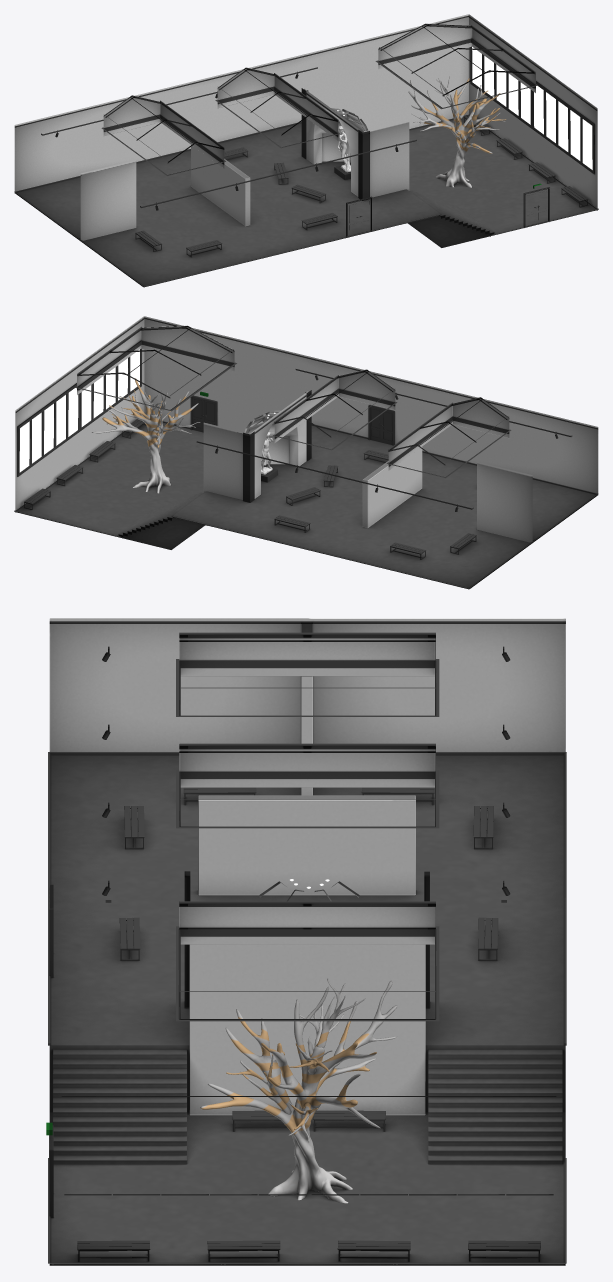
3 views of the same model, one above another, from view 1: azimuth 30°, elevation 25°; view 2: azimuth 150°, elevation 25°; view 3: azimuth 270°, elevation 25° (orthographic). The views are drawn at different scales.
Parts seen in each view (by area): view 1: walls, floor, ceiling, Window, skyLight, corner, tree2, chairs, Stairs, Doors; view 2: walls, floor, ceiling, Window, skyLight, corner, tree2, chairs, Doors, Stairs; view 3: floor, walls, Stairs, ceiling, skyLight, tree2, chairs, corner, Window, Doors.
Boxes of the visible parts, <box> form: walls: <box>14,14,597,241</box>; floor: <box>15,117,598,287</box>; ceiling: <box>103,23,535,168</box>; Window: <box>470,46,594,174</box>; skyLight: <box>101,24,537,175</box>; corner: <box>14,15,598,286</box>; tree2: <box>408,76,506,187</box>; chairs: <box>135,115,588,257</box>; Stairs: <box>409,190,494,235</box>; Doors: <box>346,187,549,237</box>; walls: <box>15,316,598,543</box>; floor: <box>14,422,597,589</box>; ceiling: <box>77,325,509,470</box>; Window: <box>17,348,141,476</box>; skyLight: <box>75,326,511,478</box>; corner: <box>14,317,598,588</box>; tree2: <box>92,378,200,493</box>; chairs: <box>24,419,476,559</box>; Doors: <box>190,395,394,445</box>; Stairs: <box>118,492,203,536</box>; floor: <box>49,755,565,1265</box>; walls: <box>49,618,565,1115</box>; Stairs: <box>53,1049,562,1164</box>; ceiling: <box>179,638,435,944</box>; skyLight: <box>176,632,439,1021</box>; tree2: <box>200,978,397,1203</box>; chairs: <box>77,787,540,1261</box>; corner: <box>48,621,566,1263</box>; Window: <box>61,1096,556,1195</box>; Doors: <box>49,884,53,1218</box>.
Bounding box in the file's own units: 30.6 × 9.15 × 15.12.
5 materials, 5 textured.
